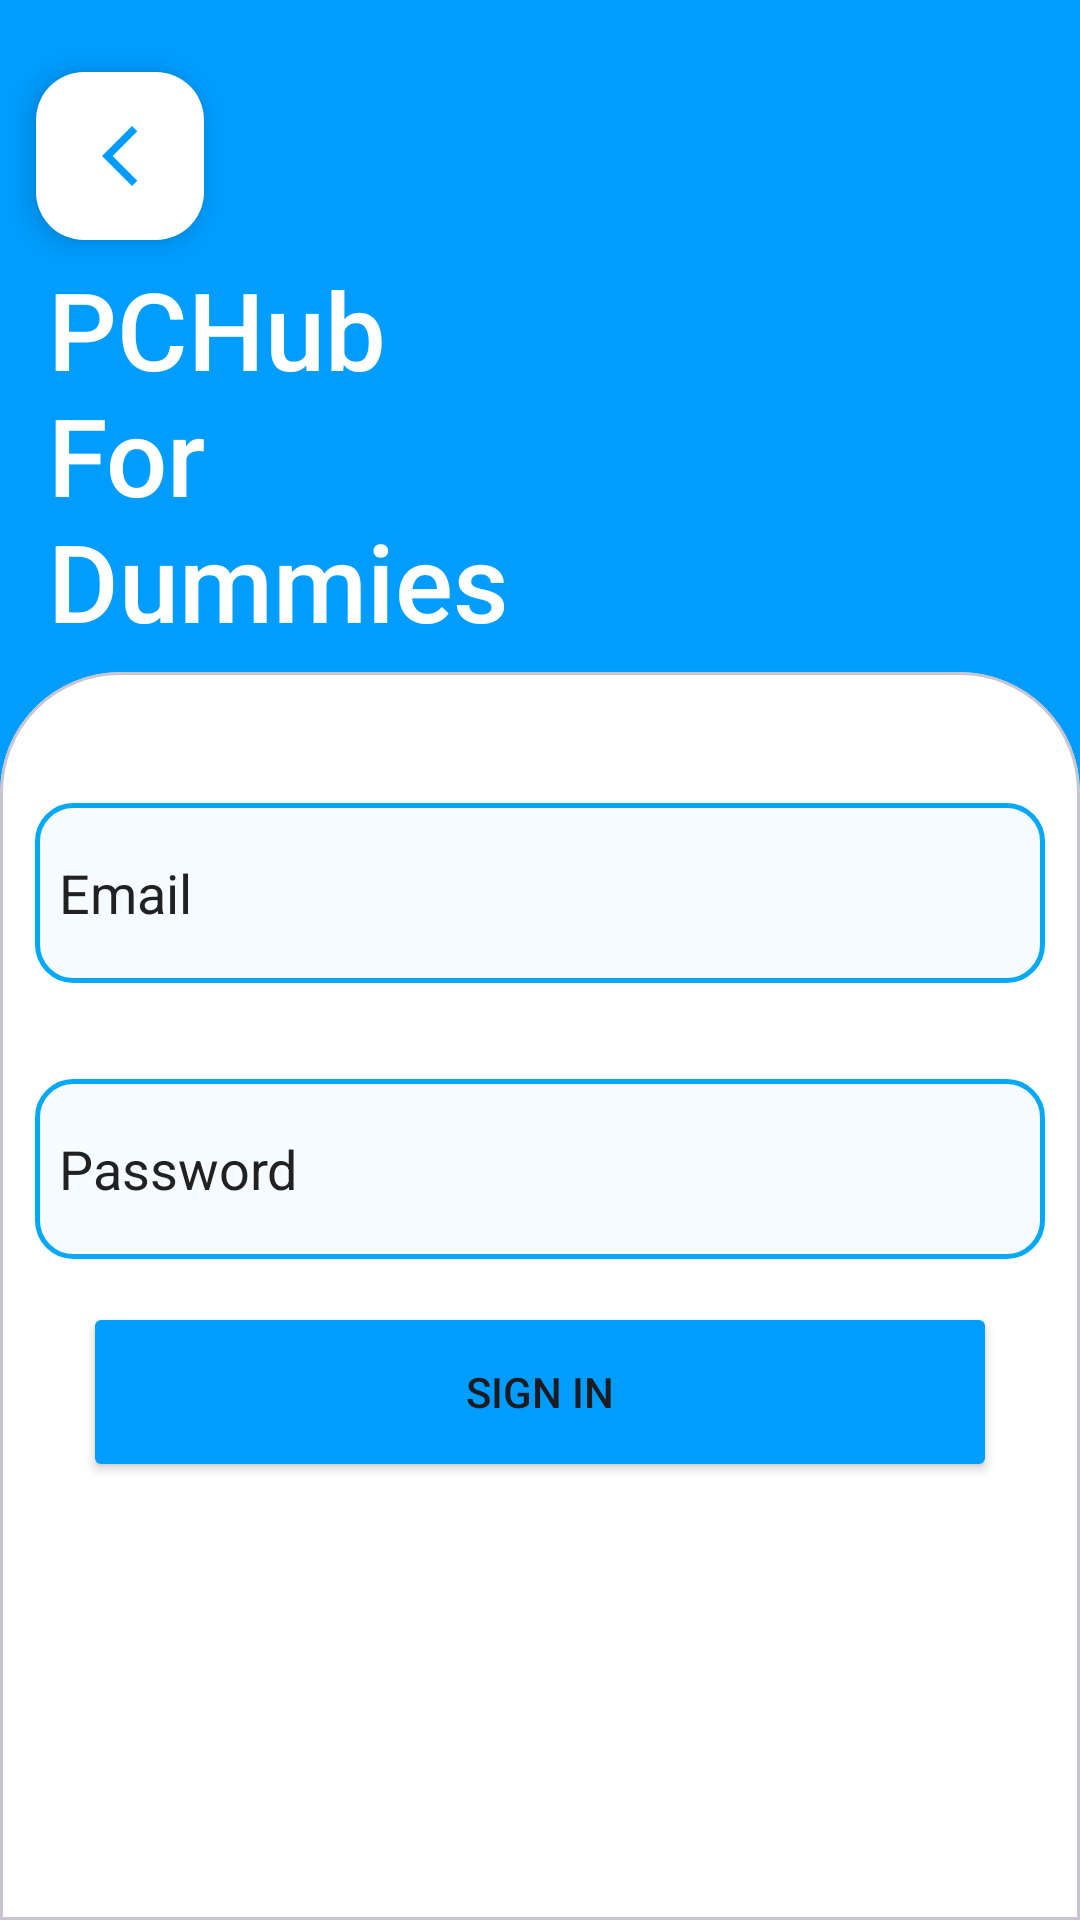

Icon click points for this 1080×1920 phone screenshot, format (x,y):
Go Back: (120,156)
